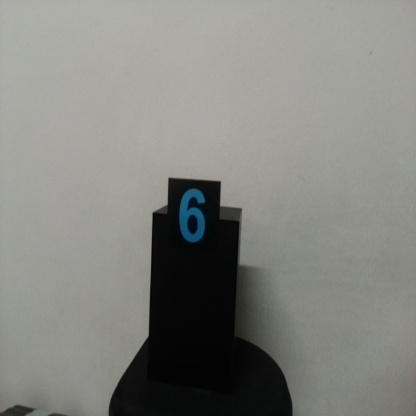id_6: (169, 179, 222, 261)
